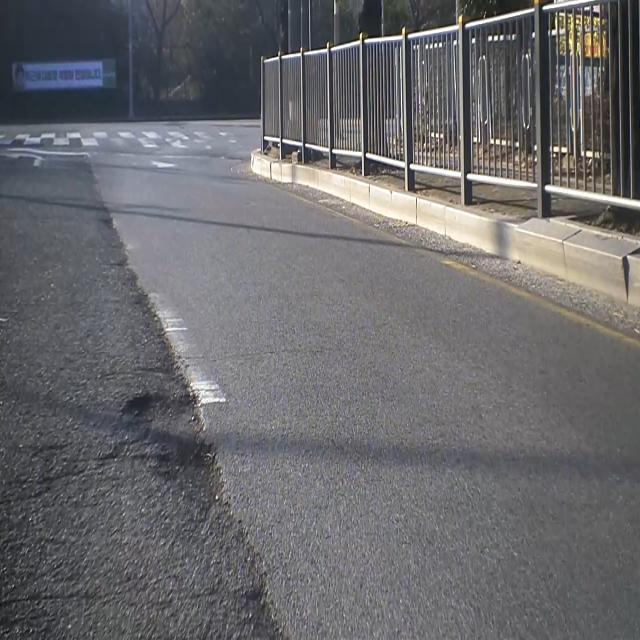Pothole: (124, 377, 206, 427)
